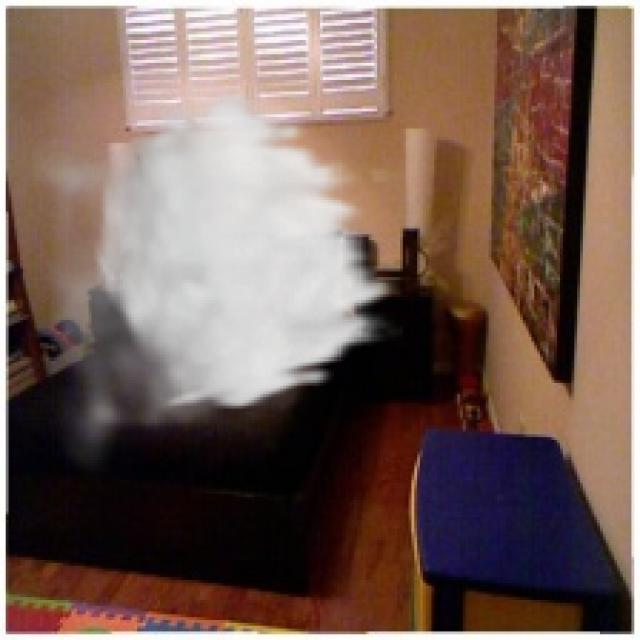smoke: (20, 89, 403, 480)
